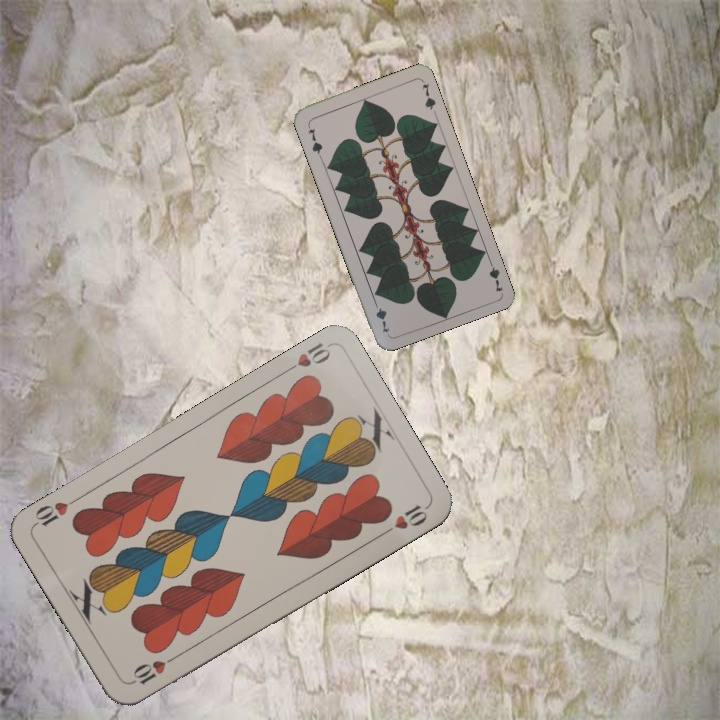G7: (484, 254, 505, 295), (304, 120, 325, 159)
H10: (279, 339, 334, 377), (127, 651, 181, 688)
